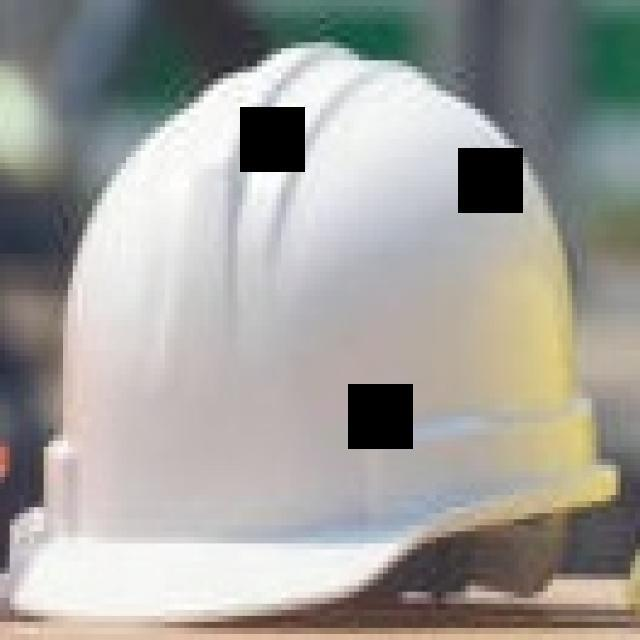white helmet: (42, 47, 618, 606)
